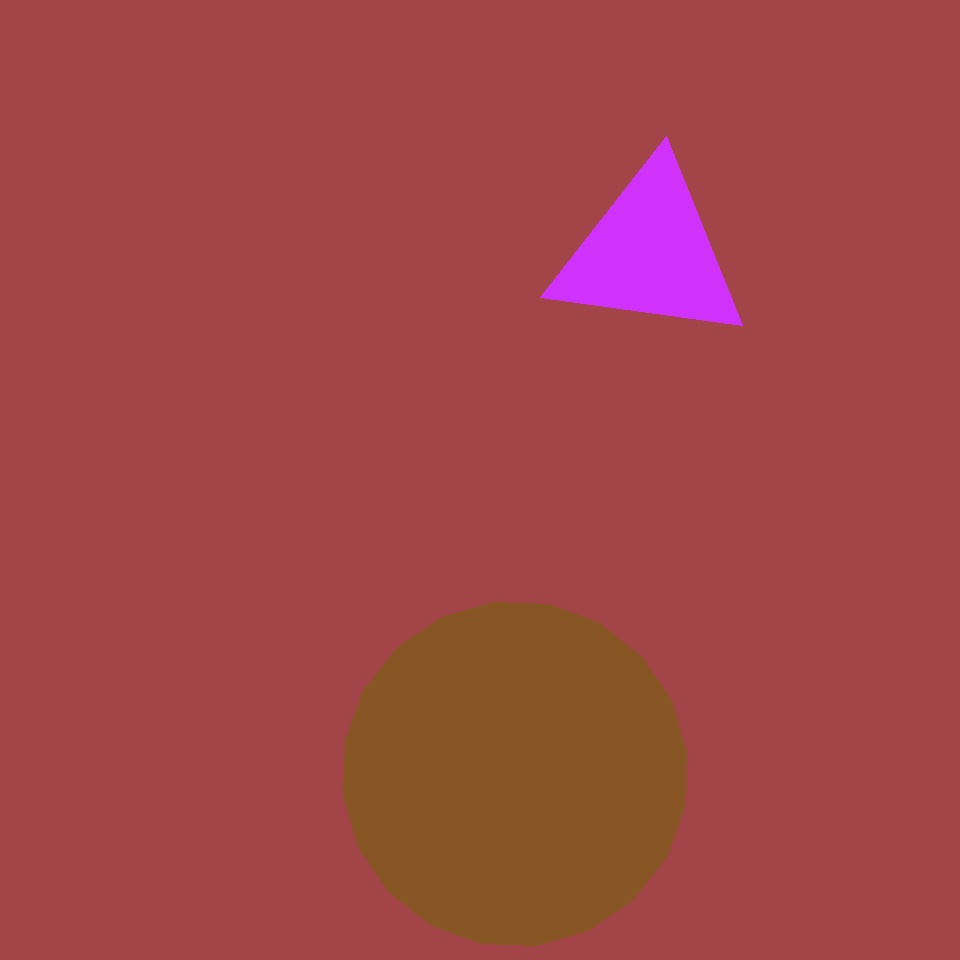circle: (549, 158, 751, 348)
square: (93, 222, 391, 519)
triangle: (344, 603, 686, 946), (158, 183, 364, 389)
